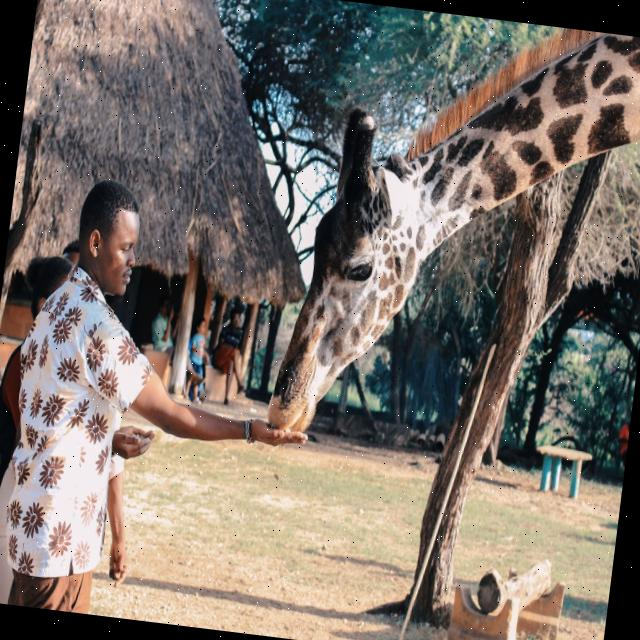Giraffe: (263, 0, 640, 474)
